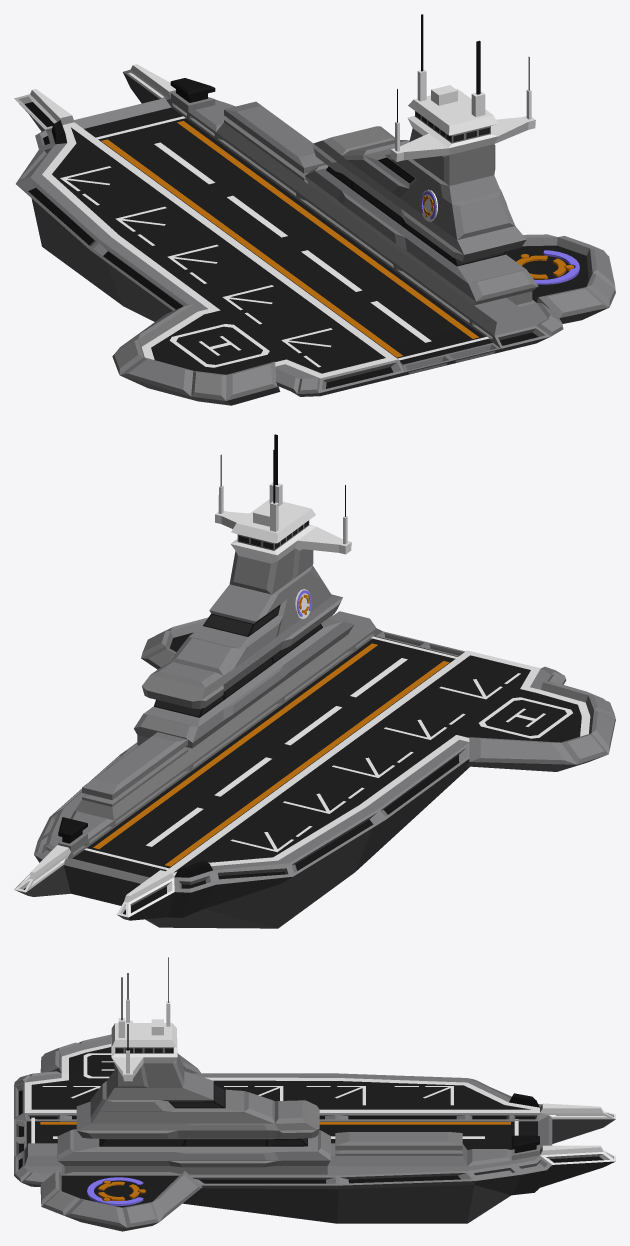
Rendered from fosa_carrier.fbx.
The picture shows the model from 3 angles, top to bottom: view 1: azimuth 30°, elevation 25°; view 2: azimuth 150°, elevation 25°; view 3: azimuth 270°, elevation 25°; orthographic projection. The views are drawn at different scales.
Visible parts, largest first — view 1: fosa_carrier; view 2: fosa_carrier; view 3: fosa_carrier.
Boxes of the visible parts, x1,y1,x2,y2 form: fosa_carrier: (14, 14, 615, 405); fosa_carrier: (14, 434, 615, 928); fosa_carrier: (14, 957, 615, 1231).
Size of the model in its own units: 1419 by 978 by 1902.
